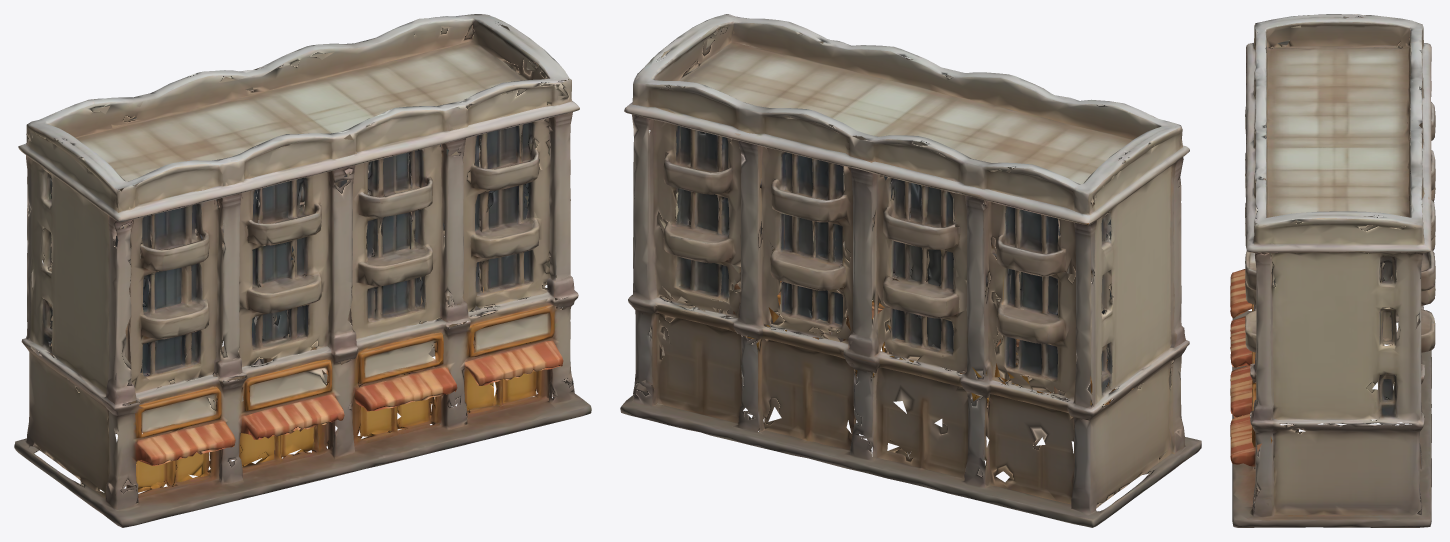
File: bb_shops_left.glb
3 views of the same model, side by side, from view 1: azimuth 30°, elevation 25°; view 2: azimuth 150°, elevation 25°; view 3: azimuth 270°, elevation 25° (orthographic). The views are drawn at different scales.
Bounding box in the file's own units: 0.9959 × 0.6824 × 0.4116.
1 material, 1 textured.
